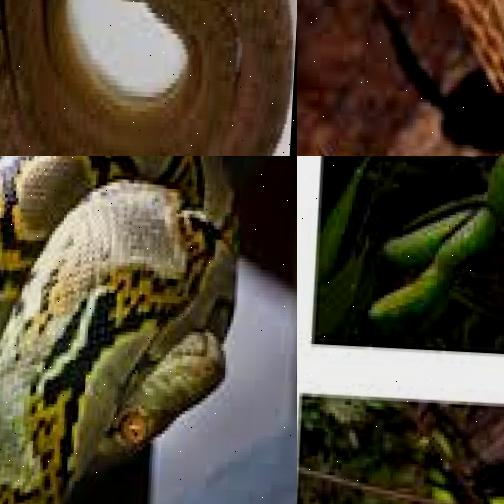snake: (0, 156, 292, 504), (0, 0, 297, 156), (327, 0, 504, 156)
